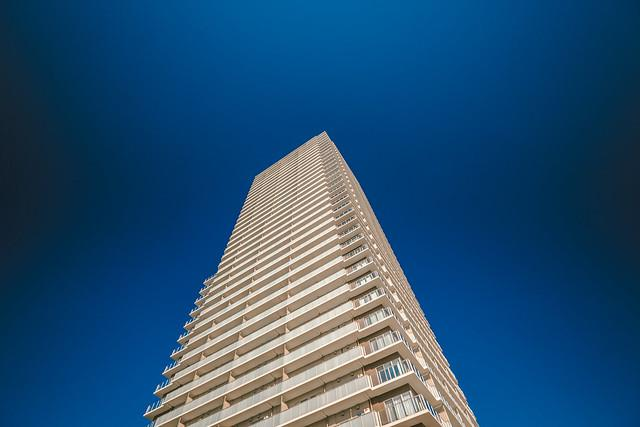building: (140, 124, 489, 427)
